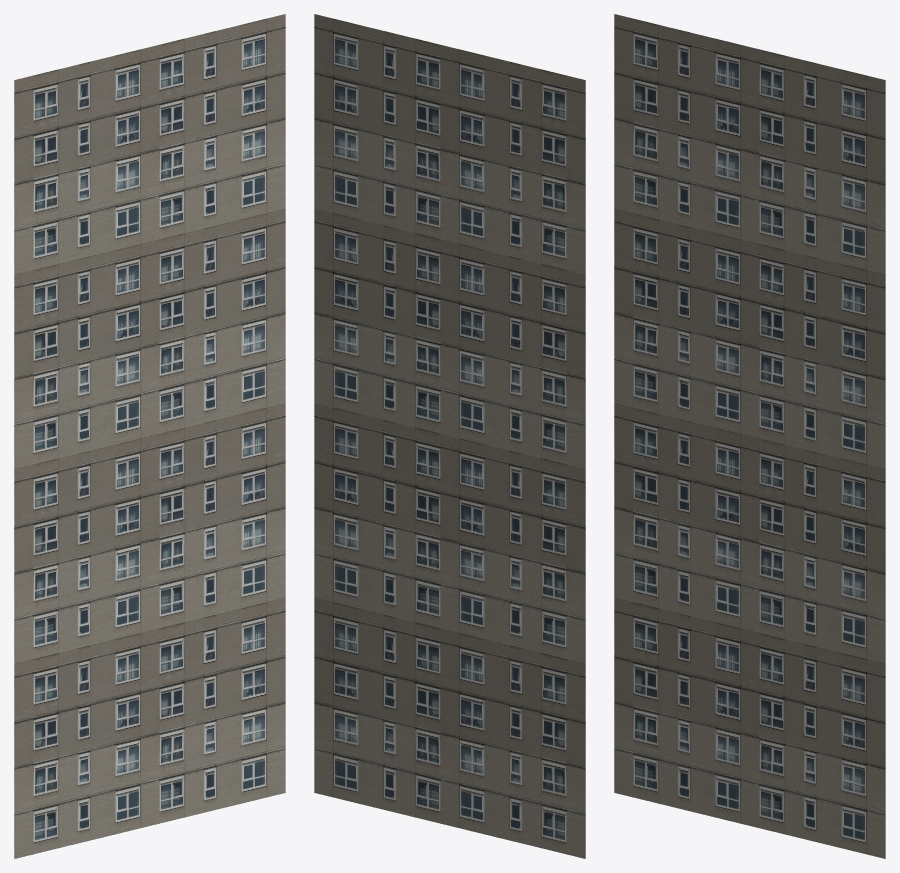
File: predio7.fbx
3 renders of one model, left to right at view 1: azimuth 30°, elevation 25°; view 2: azimuth 150°, elevation 25°; view 3: azimuth 330°, elevation 25°, orthographic.
Parts seen in each view (by area): view 1: TexturesCom_HighRiseResidential0056_1_M; view 2: TexturesCom_HighRiseResidential0056_1_M; view 3: TexturesCom_HighRiseResidential0056_1_M.
Boxes of the visible parts, box(x1,y1,x2,y2) form: TexturesCom_HighRiseResidential0056_1_M: box(14, 14, 285, 858); TexturesCom_HighRiseResidential0056_1_M: box(314, 14, 585, 858); TexturesCom_HighRiseResidential0056_1_M: box(614, 14, 885, 858).
Size of the model in its own units: 2680 by 7359 by 0.00112.
